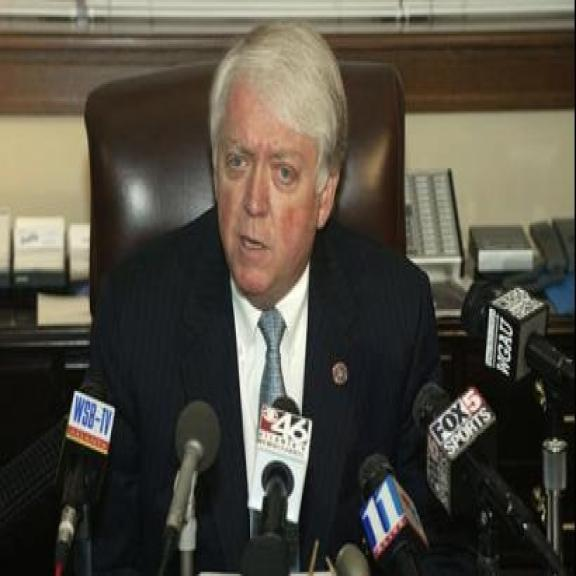face: (212, 100, 340, 299)
